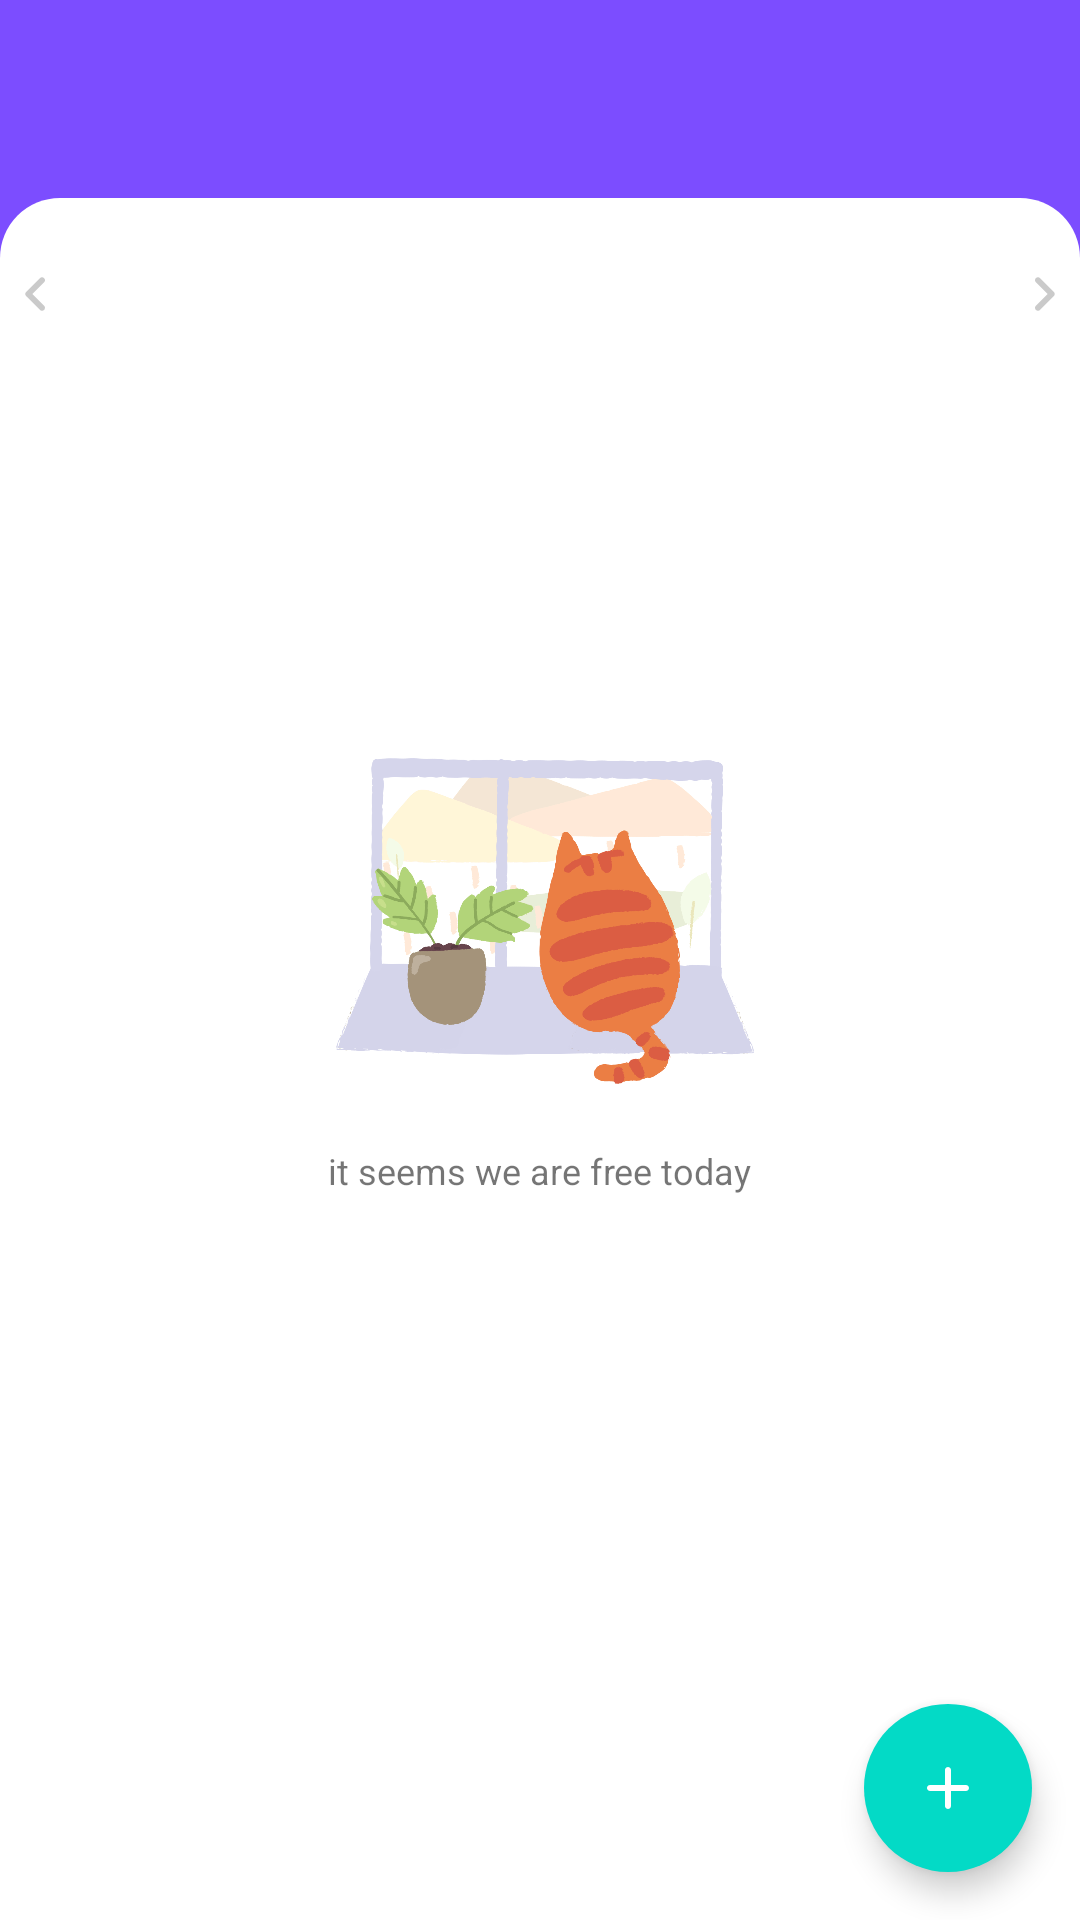

Screen size 1080×1920. Icon name, then its box in pixels as (left=x1, top=y1, right=x2, bottom=y2):
add: (left=864, top=1704, right=1032, bottom=1872)
keyboard arrow left: (left=25, top=277, right=45, bottom=311)
keyboard arrow right: (left=1035, top=277, right=1055, bottom=311)
